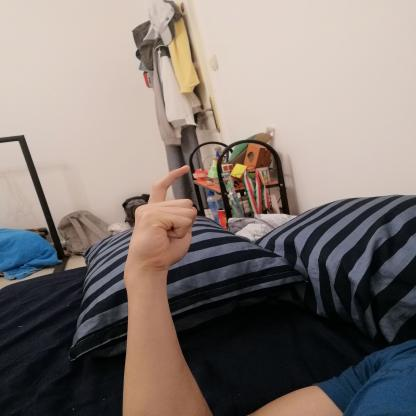RAA: (116, 159, 204, 273)
